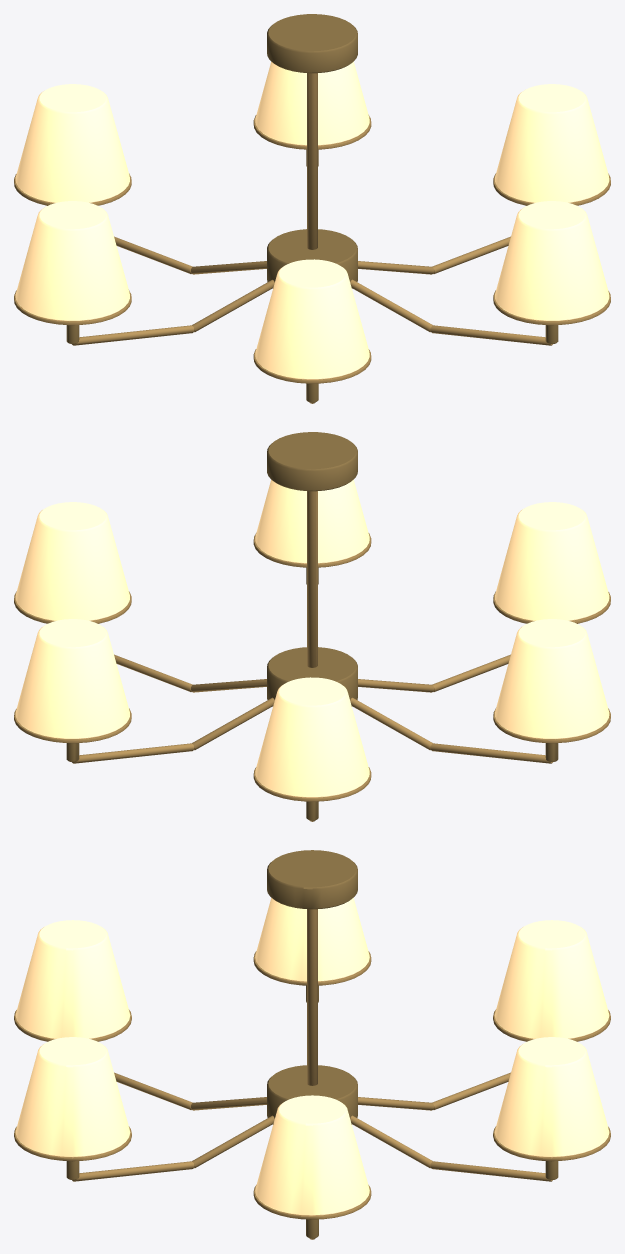
The model's file is chandelier.glb.
3 views of the same model, one above another, from view 1: azimuth 30°, elevation 25°; view 2: azimuth 150°, elevation 25°; view 3: azimuth 270°, elevation 25° (orthographic).
Visible parts, largest first — view 1: part::chandelier/chandelier-silk-shade-003, part::chandelier/chandelier-silk-shade-004, part::chandelier/chandelier-silk-shade-002, part::chandelier/chandelier-silk-shade-001, part::chandelier/chandelier-silk-shade-005, part::chandelier/chandelier-silk-shade-006, part::chandelier/chandelier-ceiling-canopy-001, part::chandelier/chandelier-central-hub-001, part::chandelier/chandelier-central-stem-001, part::chandelier/chandelier-curved-arm-outer-002, part::chandelier/chandelier-curved-arm-outer-004, part::chandelier/chandelier-curved-arm-inner-002 (+9 smaller); view 2: part::chandelier/chandelier-silk-shade-005, part::chandelier/chandelier-silk-shade-004, part::chandelier/chandelier-silk-shade-006, part::chandelier/chandelier-silk-shade-001, part::chandelier/chandelier-silk-shade-003, part::chandelier/chandelier-silk-shade-002, part::chandelier/chandelier-ceiling-canopy-001, part::chandelier/chandelier-central-hub-001, part::chandelier/chandelier-central-stem-001, part::chandelier/chandelier-curved-arm-outer-004, part::chandelier/chandelier-curved-arm-outer-006, part::chandelier/chandelier-curved-arm-inner-004 (+9 smaller); view 3: part::chandelier/chandelier-silk-shade-001, part::chandelier/chandelier-silk-shade-002, part::chandelier/chandelier-silk-shade-006, part::chandelier/chandelier-silk-shade-003, part::chandelier/chandelier-silk-shade-005, part::chandelier/chandelier-silk-shade-004, part::chandelier/chandelier-ceiling-canopy-001, part::chandelier/chandelier-central-hub-001, part::chandelier/chandelier-central-stem-001, part::chandelier/chandelier-curved-arm-outer-002, part::chandelier/chandelier-curved-arm-outer-006, part::chandelier/chandelier-curved-arm-inner-002 (+9 smaller).
Part boxes in pixels (bbox=[...]): part::chandelier/chandelier-silk-shade-003: bbox=[255, 259, 369, 379]; part::chandelier/chandelier-silk-shade-004: bbox=[15, 201, 129, 320]; part::chandelier/chandelier-silk-shade-002: bbox=[495, 201, 609, 320]; part::chandelier/chandelier-silk-shade-001: bbox=[495, 84, 609, 202]; part::chandelier/chandelier-silk-shade-005: bbox=[15, 84, 129, 202]; part::chandelier/chandelier-silk-shade-006: bbox=[255, 61, 369, 145]; part::chandelier/chandelier-ceiling-canopy-001: bbox=[267, 14, 357, 73]; part::chandelier/chandelier-central-hub-001: bbox=[267, 229, 357, 288]; part::chandelier/chandelier-central-stem-001: bbox=[307, 73, 317, 249]; part::chandelier/chandelier-curved-arm-outer-002: bbox=[430, 325, 552, 345]; part::chandelier/chandelier-curved-arm-outer-004: bbox=[72, 325, 194, 345]; part::chandelier/chandelier-curved-arm-inner-002: bbox=[350, 279, 432, 332]; part::chandelier/chandelier-silk-shade-005: bbox=[255, 677, 369, 797]; part::chandelier/chandelier-silk-shade-004: bbox=[495, 619, 609, 738]; part::chandelier/chandelier-silk-shade-006: bbox=[15, 619, 129, 738]; part::chandelier/chandelier-silk-shade-001: bbox=[15, 502, 129, 620]; part::chandelier/chandelier-silk-shade-003: bbox=[495, 502, 609, 620]; part::chandelier/chandelier-silk-shade-002: bbox=[255, 479, 369, 563]; part::chandelier/chandelier-ceiling-canopy-001: bbox=[267, 432, 357, 491]; part::chandelier/chandelier-central-hub-001: bbox=[267, 647, 357, 706]; part::chandelier/chandelier-central-stem-001: bbox=[307, 491, 317, 667]; part::chandelier/chandelier-curved-arm-outer-004: bbox=[430, 743, 552, 763]; part::chandelier/chandelier-curved-arm-outer-006: bbox=[72, 743, 194, 763]; part::chandelier/chandelier-curved-arm-inner-004: bbox=[350, 697, 432, 750]; part::chandelier/chandelier-silk-shade-001: bbox=[255, 1095, 369, 1215]; part::chandelier/chandelier-silk-shade-002: bbox=[15, 1037, 130, 1157]; part::chandelier/chandelier-silk-shade-006: bbox=[494, 1037, 609, 1157]; part::chandelier/chandelier-silk-shade-003: bbox=[15, 920, 130, 1038]; part::chandelier/chandelier-silk-shade-005: bbox=[494, 920, 609, 1038]; part::chandelier/chandelier-silk-shade-004: bbox=[255, 898, 369, 981]; part::chandelier/chandelier-ceiling-canopy-001: bbox=[267, 850, 357, 909]; part::chandelier/chandelier-central-hub-001: bbox=[267, 1065, 357, 1124]; part::chandelier/chandelier-central-stem-001: bbox=[307, 909, 317, 1085]; part::chandelier/chandelier-curved-arm-outer-002: bbox=[72, 1161, 194, 1181]; part::chandelier/chandelier-curved-arm-outer-006: bbox=[430, 1161, 552, 1181]; part::chandelier/chandelier-curved-arm-inner-002: bbox=[192, 1115, 274, 1168].
Size of the model in its own units: 2.21 by 0.9826 by 1.96.
